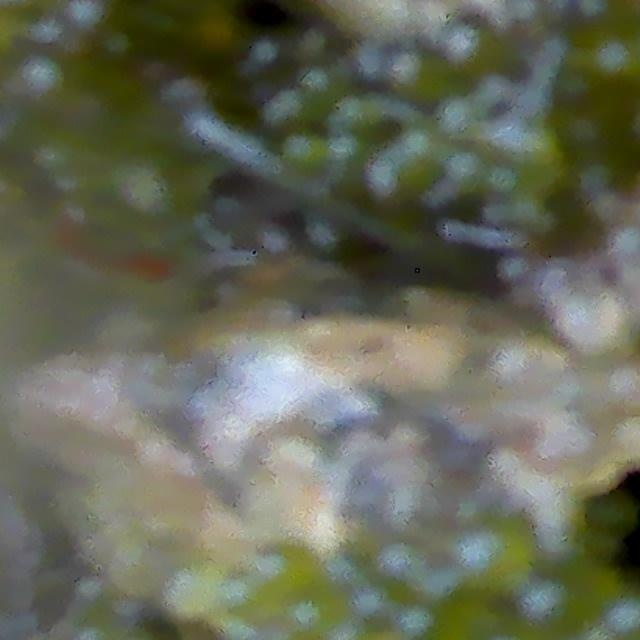SeaGrape: (482, 331, 576, 427), (514, 570, 601, 640), (457, 517, 533, 596), (554, 285, 623, 352), (258, 539, 315, 597)
